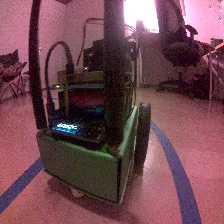rob: (34, 36, 152, 208)
